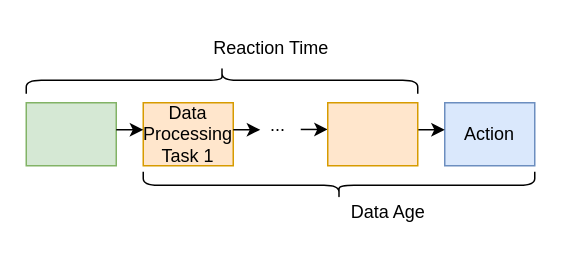
This 561x260 diagram has some shape labels left out. Here are the shapes that lost their labels. From the top down, the box of each, then its label:
(25, 101, 116, 166): External Events
(326, 101, 418, 166): Data Processing Task n
